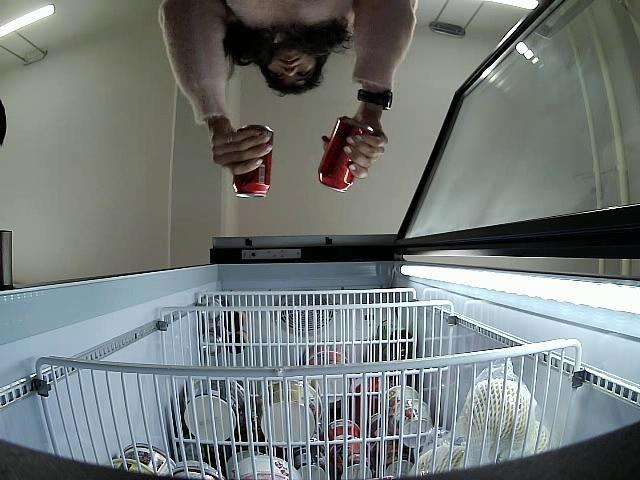11_cocaColaZero: (318, 116, 374, 192), (230, 124, 274, 200)
